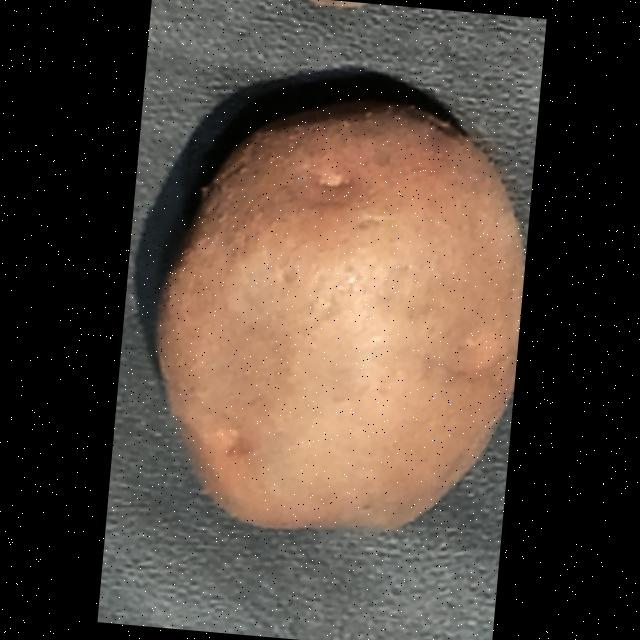Diseased-fungal potato: (118, 78, 537, 574)
